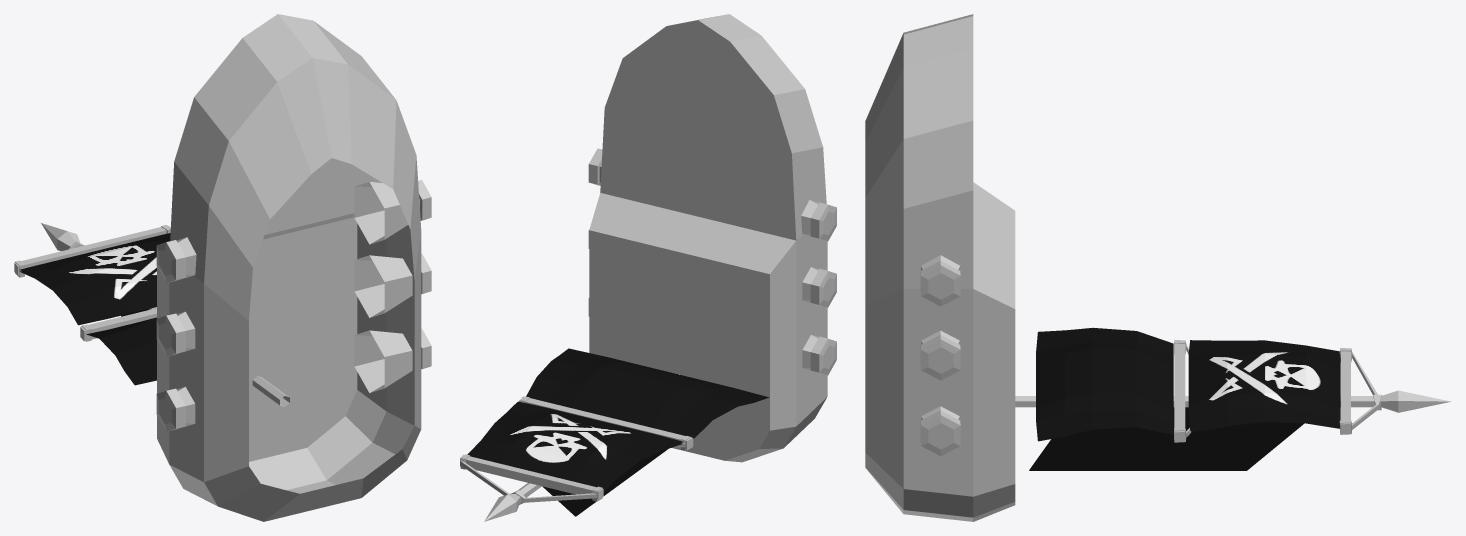
Rendered from pirate_basic_my_3.fbx.
3 views of the same model, side by side, from view 1: azimuth 30°, elevation 25°; view 2: azimuth 150°, elevation 25°; view 3: azimuth 270°, elevation 25° (orthographic). The views are drawn at different scales.
Visible parts, largest first — view 1: Cube.181; view 2: Cube.181; view 3: Cube.181.
Part boxes in pixels (x1,y1,x2,y2): Cube.181: (14, 14, 431, 521); Cube.181: (460, 14, 836, 521); Cube.181: (865, 14, 1450, 521).
Size of the model in its own units: 266 by 472 by 520.
